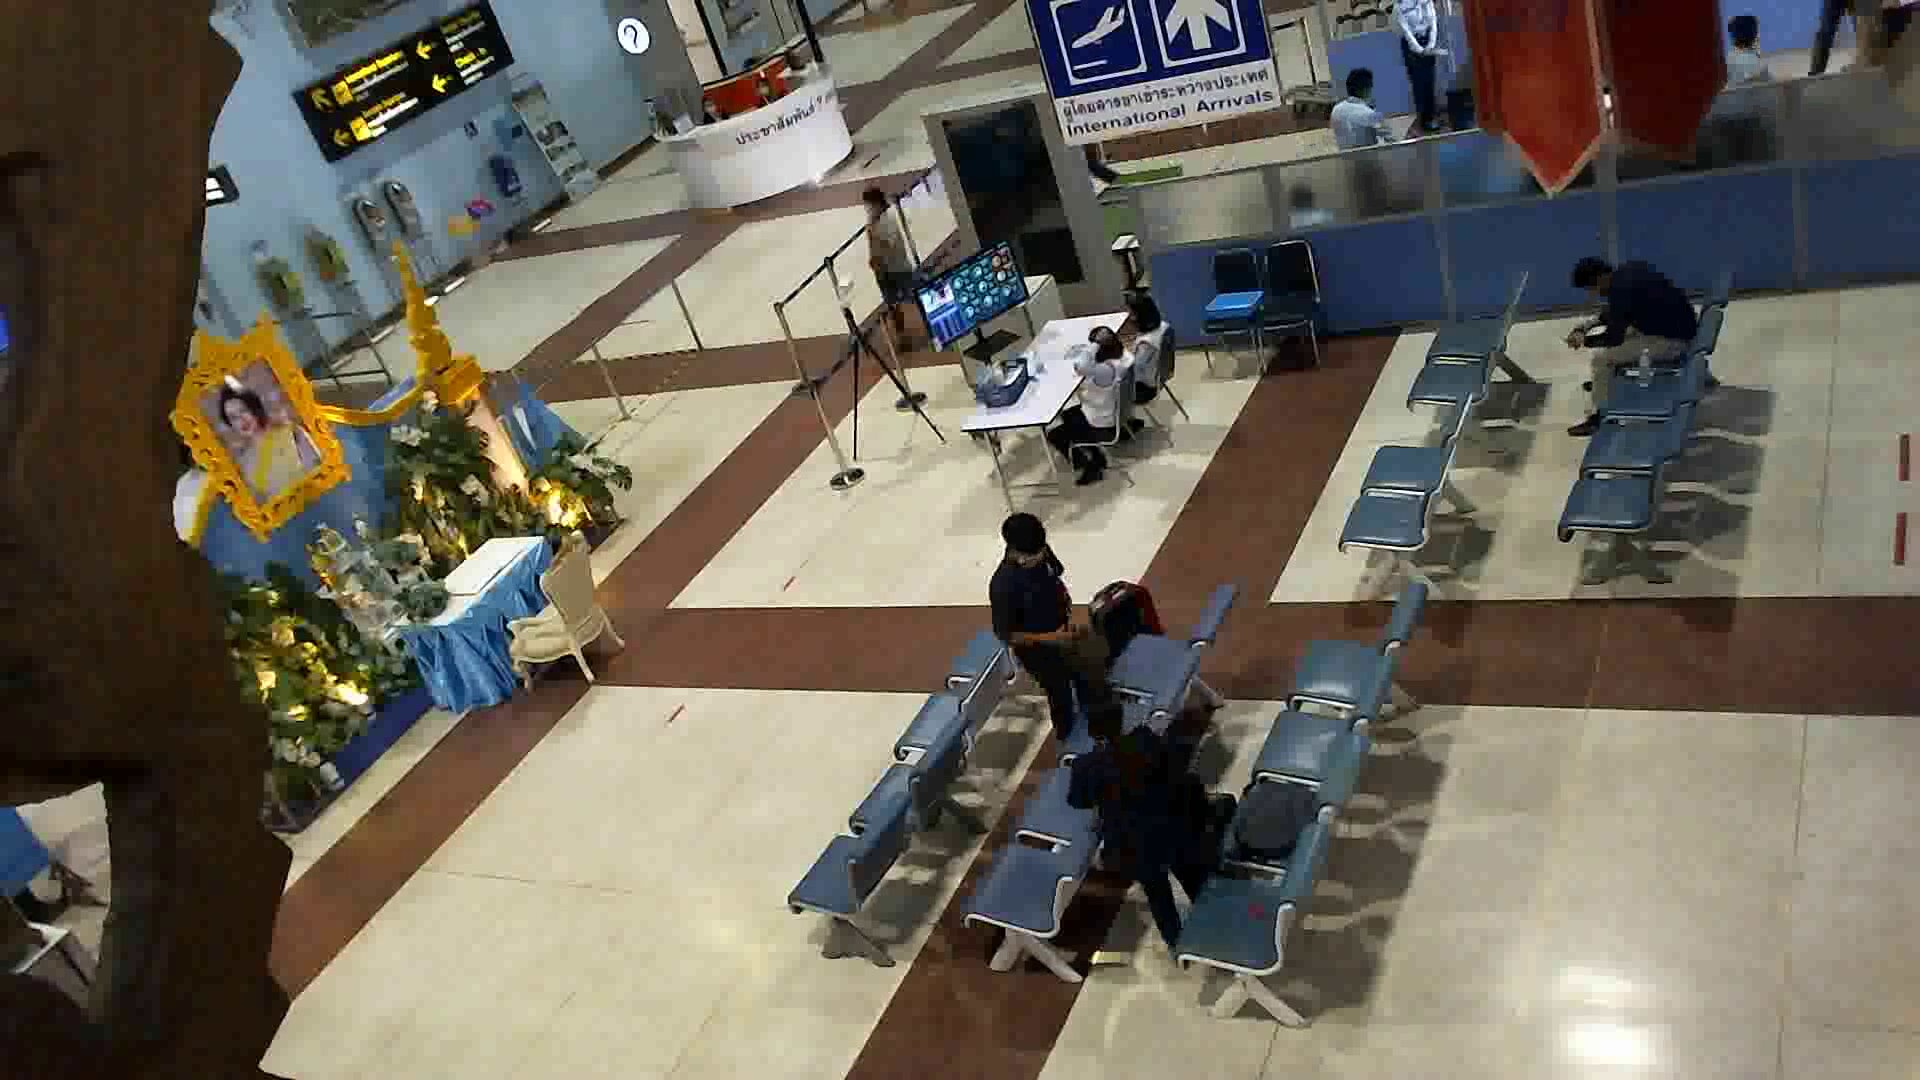backpack: (1224, 759, 1326, 872), (1054, 618, 1114, 697)
luggage: (1078, 563, 1168, 703)
people: (1074, 686, 1226, 976), (1553, 241, 1716, 466), (985, 509, 1091, 741), (849, 176, 928, 365), (1106, 276, 1193, 424), (1051, 326, 1137, 476)
